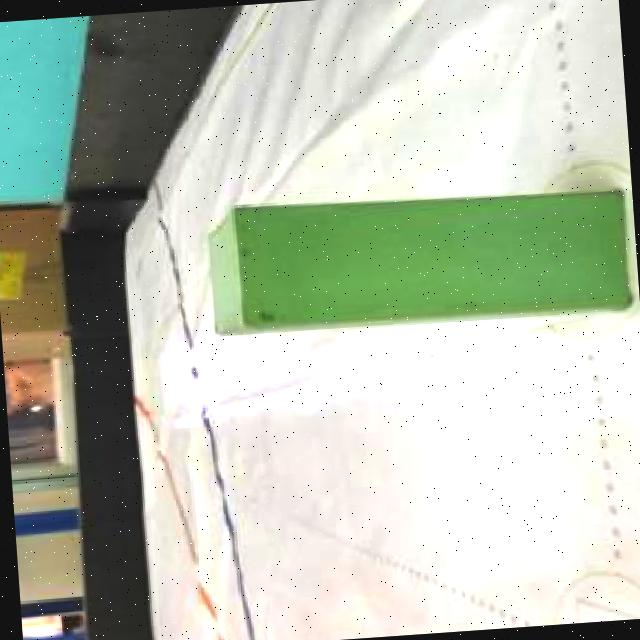greenbox: (198, 177, 632, 340)
